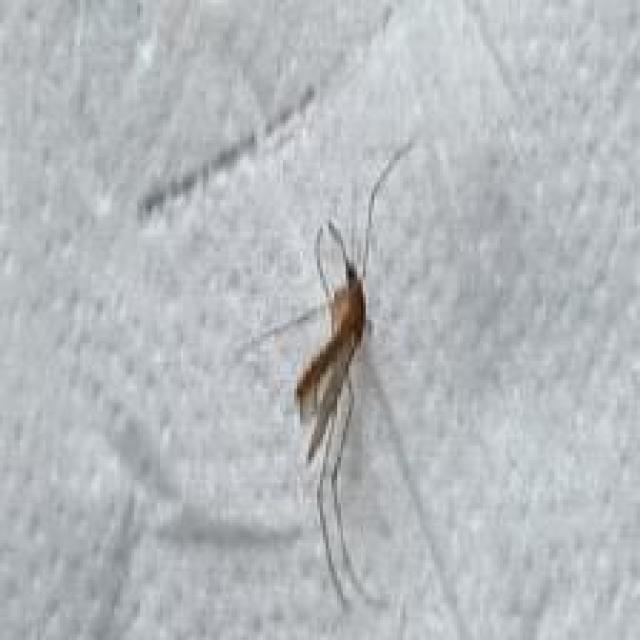Culex: (238, 136, 473, 638)
